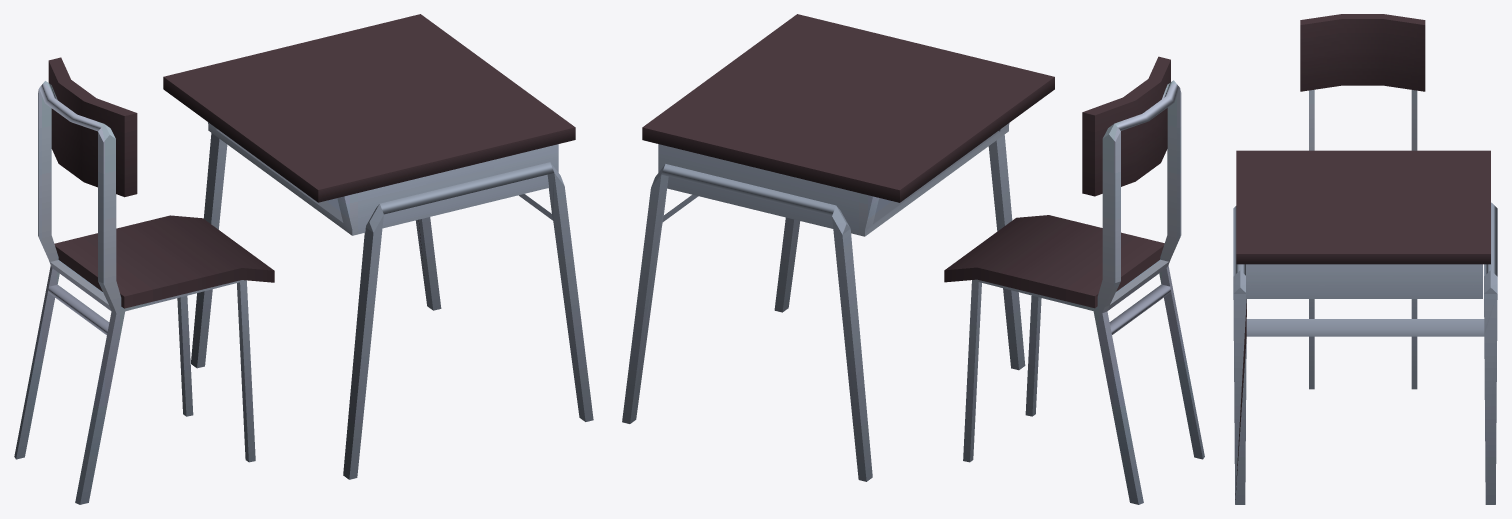
File: School Chair And Table.fbx
The picture shows the model from 3 angles, left to right: view 1: azimuth 30°, elevation 25°; view 2: azimuth 150°, elevation 25°; view 3: azimuth 270°, elevation 25°; orthographic projection. The views are drawn at different scales.
Visible parts, largest first — view 1: Box002, Box003; view 2: Box002, Box003; view 3: Box002, Box003.
Part boxes in pixels (x1=…): Box002: x1=163, y1=14, x2=593, y2=479; Box003: x1=14, y1=57, x2=274, y2=504; Box002: x1=622, y1=14, x2=1054, y2=481; Box003: x1=944, y1=56, x2=1204, y2=504; Box002: x1=1233, y1=150, x2=1497, y2=504; Box003: x1=1300, y1=14, x2=1425, y2=389.
Bounding box in the file's own units: 334 × 260 × 198.
Materials: 1 (1 with a texture image).
